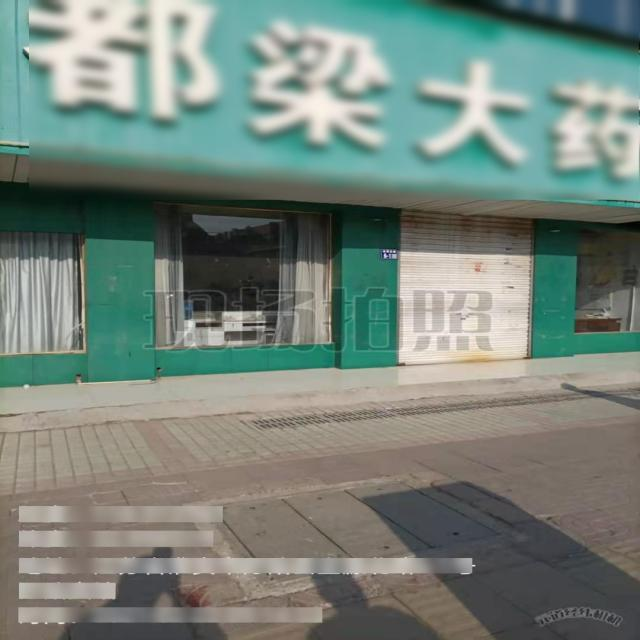Good: (202, 475, 512, 590)
